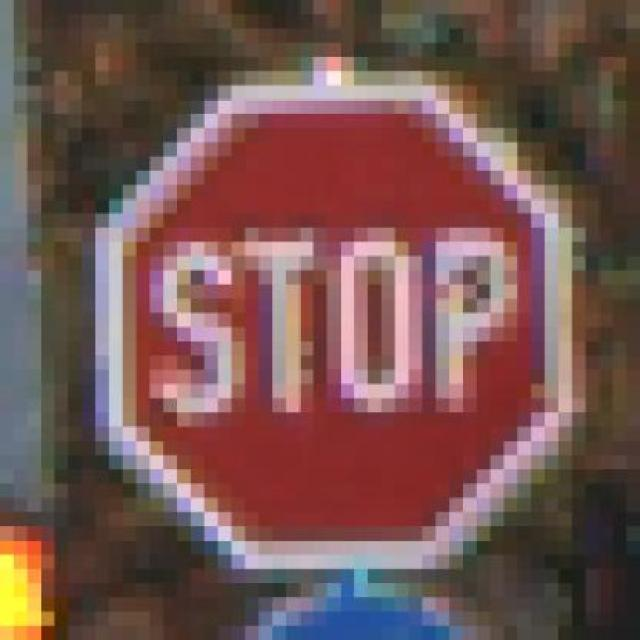Stop_Sign: (68, 56, 600, 598)
